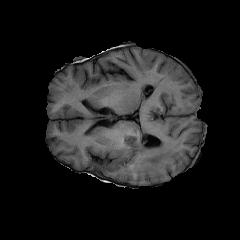glioma: (124, 136, 175, 169)
